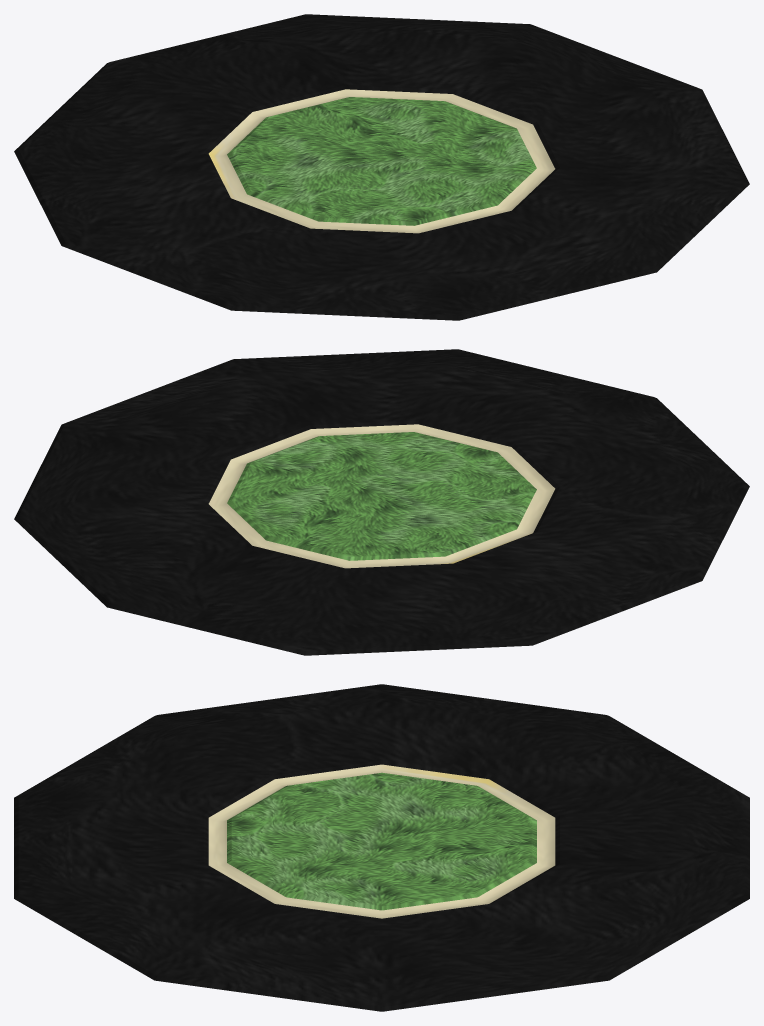
Rendered from Circular_Carpet_04_D.FBX.
3 views of the same model, one above another, from view 1: azimuth 30°, elevation 25°; view 2: azimuth 150°, elevation 25°; view 3: azimuth 270°, elevation 25° (orthographic). The views are drawn at different scales.
Visible parts, largest first — view 1: Circular_Carpet; view 2: Circular_Carpet; view 3: Circular_Carpet.
Part boxes in pixels (left/top/right/bottom): Circular_Carpet: left=14, top=14, right=749, bottom=320; Circular_Carpet: left=14, top=349, right=749, bottom=655; Circular_Carpet: left=14, top=684, right=749, bottom=1011.
Bounding box in the file's own units: 316 × 4.05 × 300.
